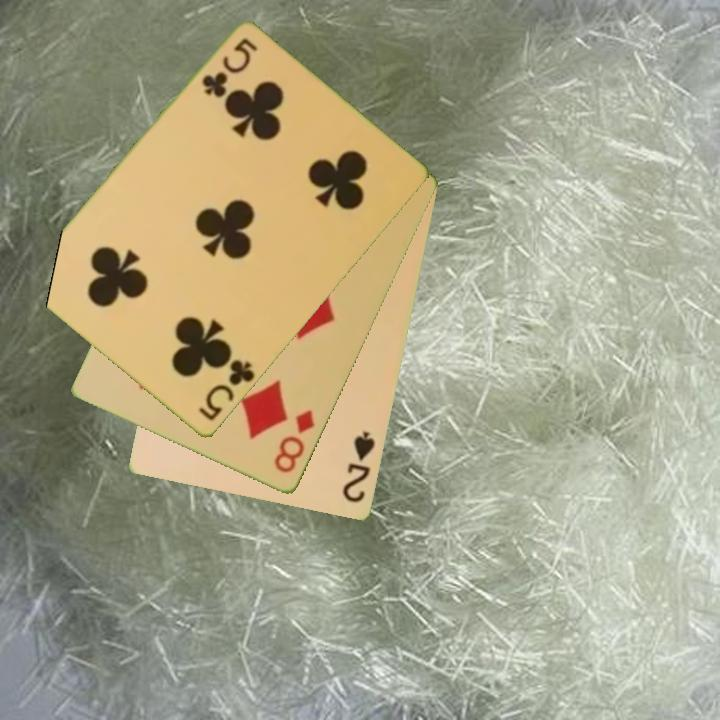2s: (339, 428, 378, 506)
5c: (195, 356, 258, 425), (198, 34, 261, 101)
8d: (270, 406, 319, 477)
